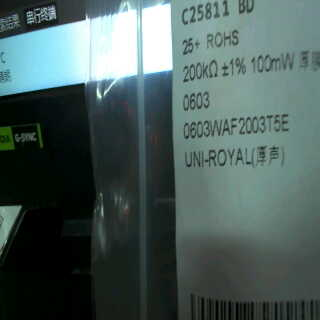200kR: (178, 58, 219, 88)
